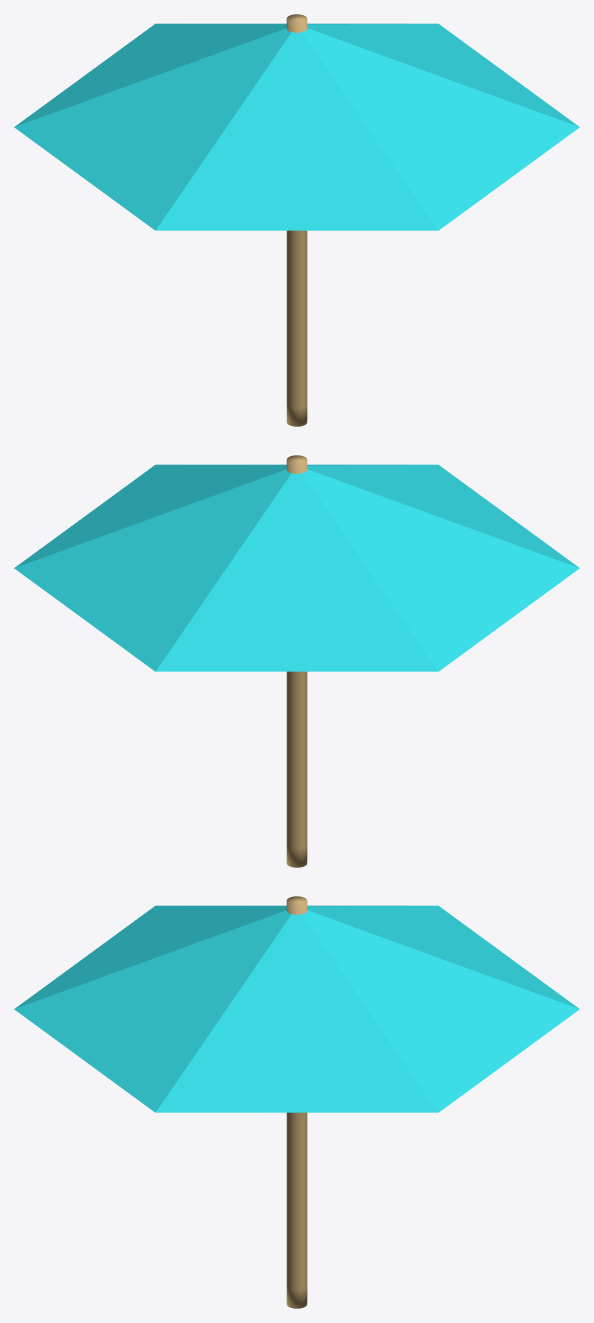
The model's file is Sombrilla.glb.
The picture shows the model from 3 angles, top to bottom: view 1: azimuth 30°, elevation 25°; view 2: azimuth 150°, elevation 25°; view 3: azimuth 270°, elevation 25°; orthographic projection.
Parts seen in each view (by area): view 1: Cone, Cylinder; view 2: Cone, Cylinder; view 3: Cone, Cylinder.
Boxes of the visible parts, x1,y1,x2,y2 form: Cone: [14, 23, 579, 230]; Cylinder: [286, 14, 307, 426]; Cone: [14, 464, 579, 671]; Cylinder: [286, 455, 307, 867]; Cone: [14, 905, 579, 1112]; Cylinder: [286, 896, 307, 1308].
Size of the model in its own units: 6.92 by 6.29 by 7.99.
